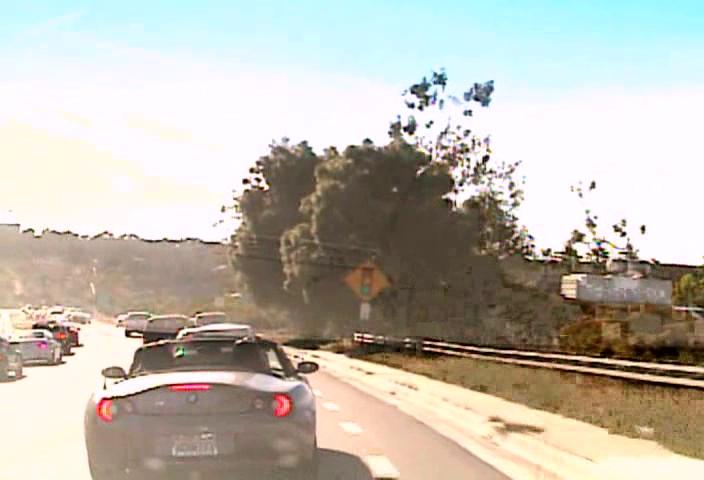signalAhead: (342, 258, 390, 301)
